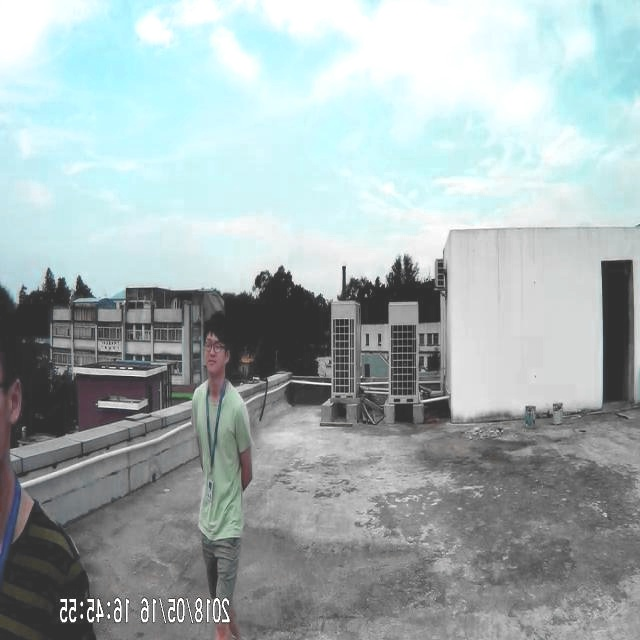Sin_Chaleco: (190, 378, 253, 538)
